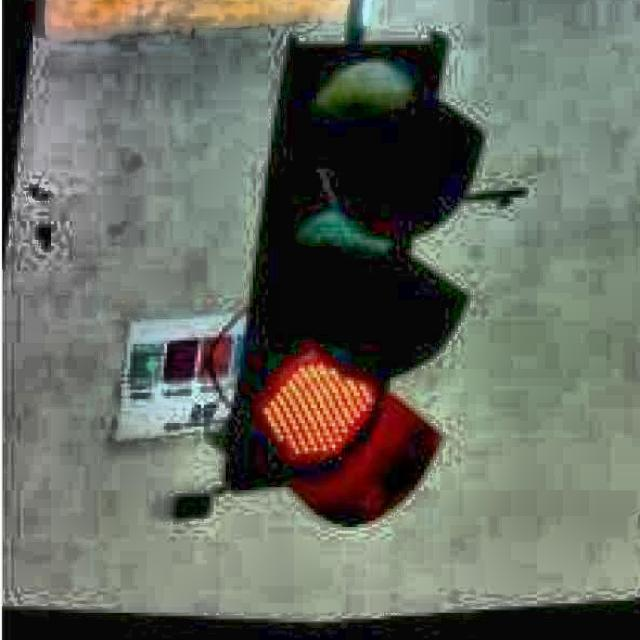red: (225, 32, 432, 516)
